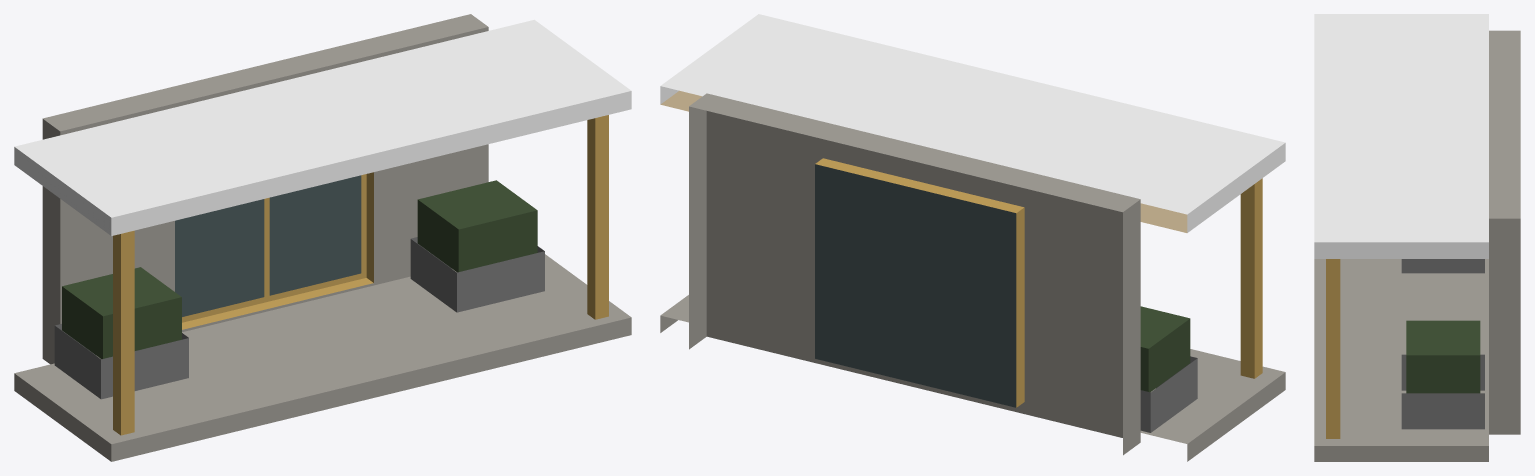
The model's file is entrance.fbx.
3 renders of one model, left to right at view 1: azimuth 30°, elevation 25°; view 2: azimuth 150°, elevation 25°; view 3: azimuth 270°, elevation 25°, orthographic. The views are drawn at different scales.
Visible parts, largest first — view 1: a2019/0/entrance; view 2: a2019/0/entrance; view 3: a2019/0/entrance.
Boxes of the visible parts, left/top/right/bottom form: a2019/0/entrance: left=14, top=14, right=631, bottom=461; a2019/0/entrance: left=660, top=14, right=1285, bottom=461; a2019/0/entrance: left=1314, top=14, right=1520, bottom=461.
Bounding box in the file's own units: 6.8 × 3.1 × 2.6.
